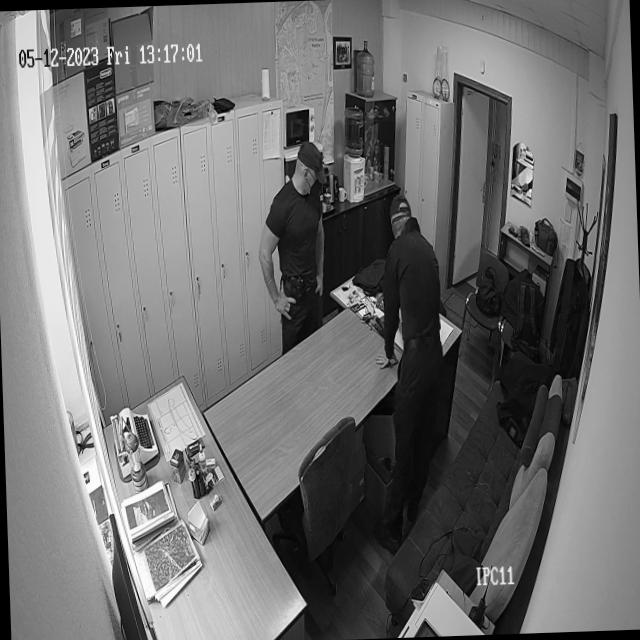person: (368, 190, 456, 468), (253, 136, 327, 322)
